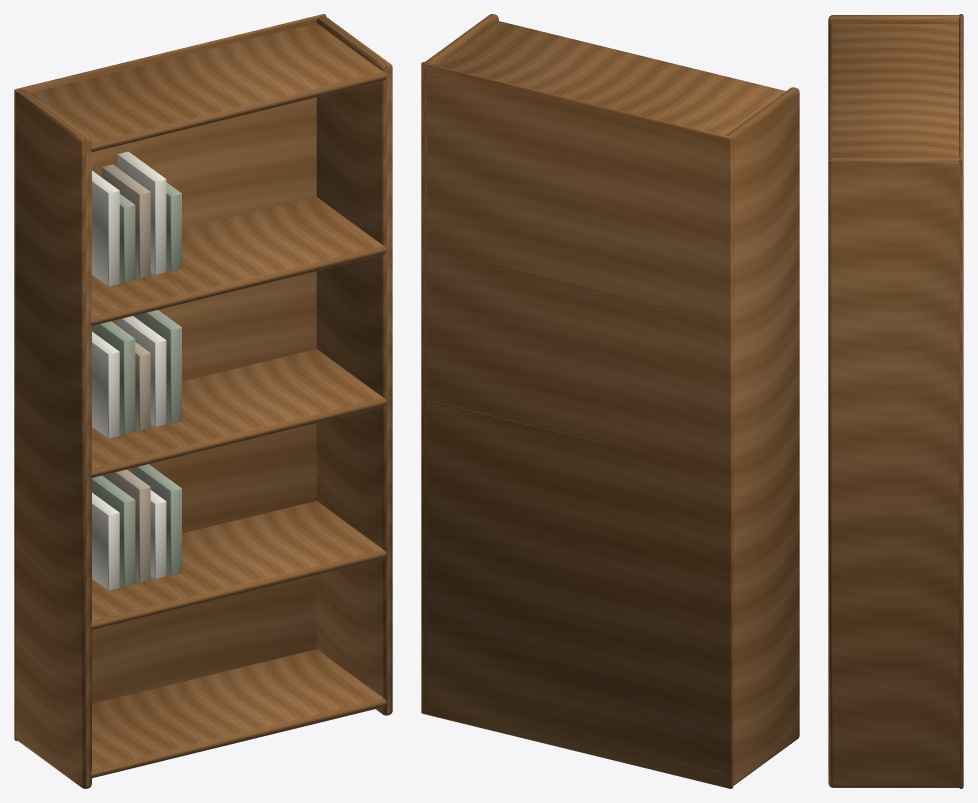
Rendered from bookshelf.glb.
3 views of the same model, side by side, from view 1: azimuth 30°, elevation 25°; view 2: azimuth 150°, elevation 25°; view 3: azimuth 270°, elevation 25° (orthographic). The views are drawn at different scales.
Parts seen in each view (by area): view 1: bookshelf-mesh; view 2: bookshelf-mesh; view 3: bookshelf-mesh.
Part boxes in pixels (bbox=[...]): bookshelf-mesh: bbox=[14, 14, 392, 788]; bookshelf-mesh: bbox=[421, 14, 799, 788]; bookshelf-mesh: bbox=[828, 14, 963, 788].
Size of the model in its own units: 0.9 by 1.8 by 0.35.
Materials: 4 (1 with a texture image).
